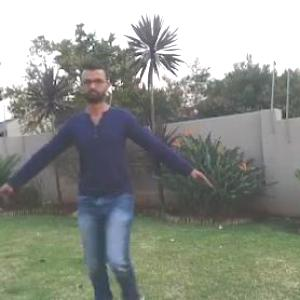land: (42, 91, 182, 263)
